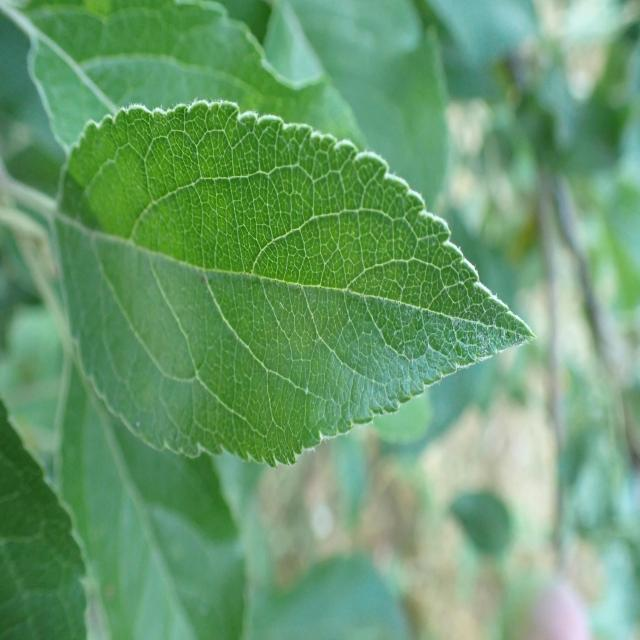healthy: (55, 99, 537, 466), (24, 0, 360, 153), (0, 396, 89, 640)
